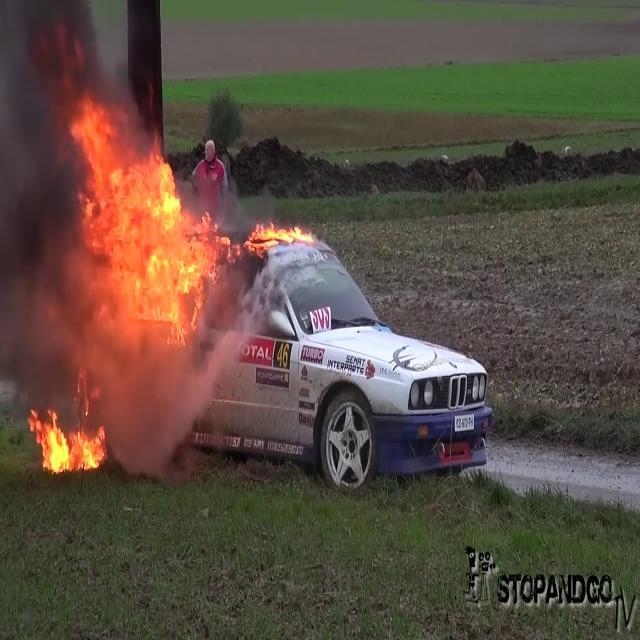Fire: (42, 94, 218, 344), (28, 400, 110, 482), (243, 216, 317, 256)
Smoke: (0, 1, 108, 371)
